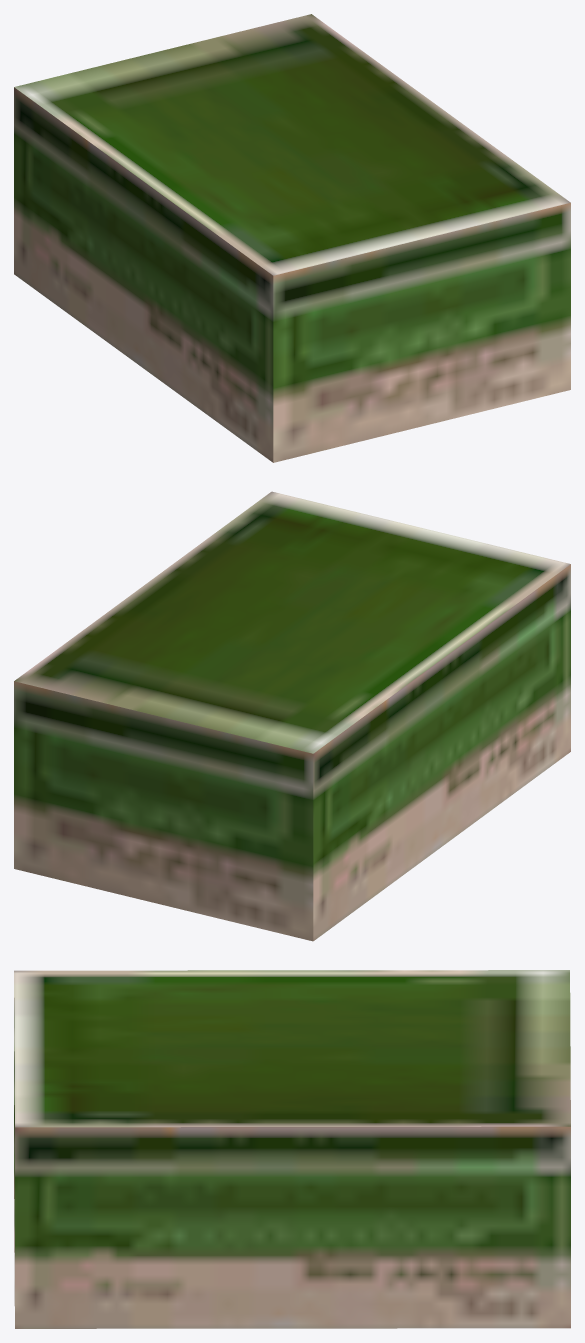
The model's file is shoe_box_var2.fbx.
3 renders of one model, top to bottom at view 1: azimuth 30°, elevation 25°; view 2: azimuth 150°, elevation 25°; view 3: azimuth 270°, elevation 25°, orthographic. The views are drawn at different scales.
Parts seen in each view (by area): view 1: mesh_0; view 2: mesh_0; view 3: mesh_0.
Boxes of the visible parts, x1=… form: mesh_0: x1=14, y1=14, x2=570, y2=462; mesh_0: x1=14, y1=491, x2=570, y2=941; mesh_0: x1=14, y1=970, x2=570, y2=1328.
Size of the model in its own units: 20.08 by 12 by 30.05.
Materials: 1 (1 with a texture image).
